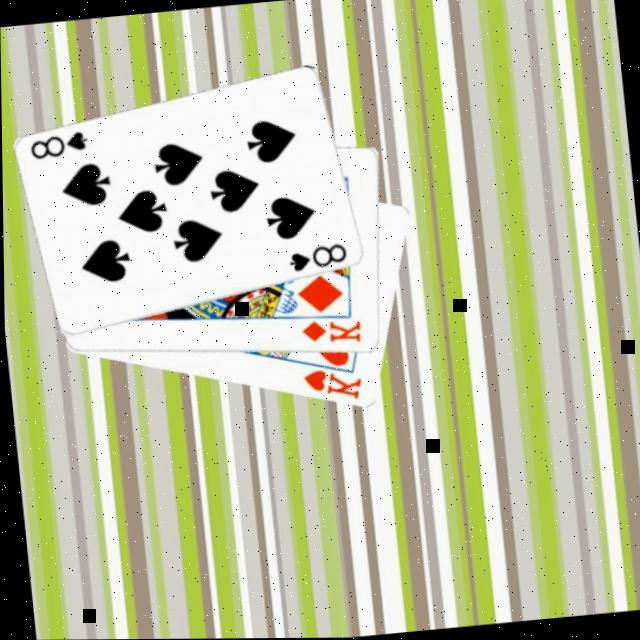8S: (285, 238, 352, 274), (27, 126, 93, 161)
KD: (298, 313, 366, 349)
KH: (299, 362, 367, 406)
